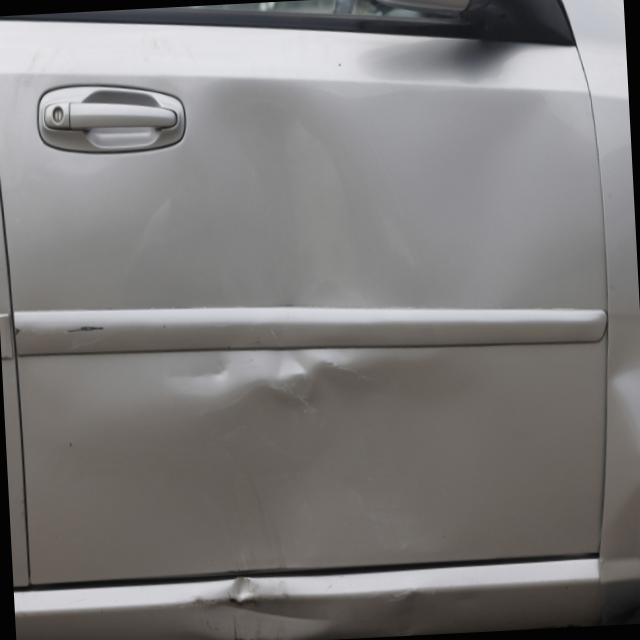Cabossage: (146, 312, 369, 415), (181, 560, 330, 640)
Rayure: (0, 310, 116, 364), (187, 581, 280, 640)
